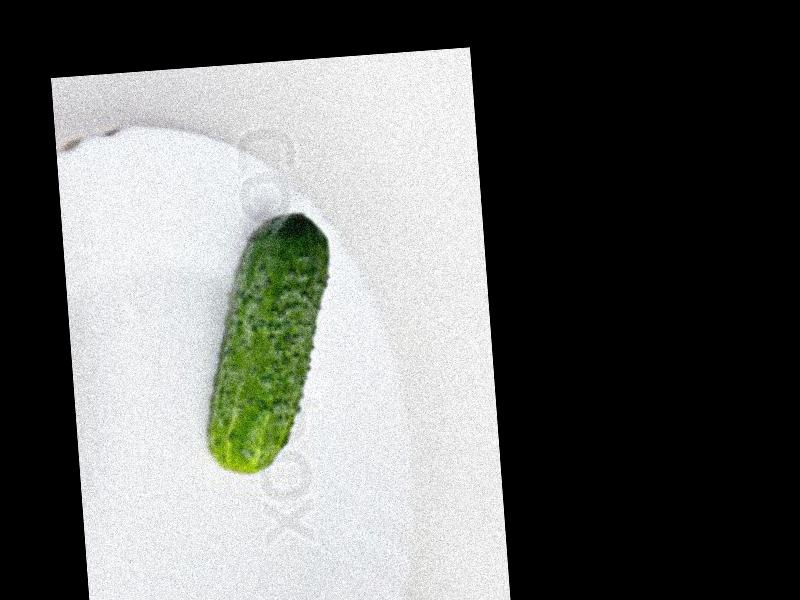Cucumber: (191, 214, 344, 474)
